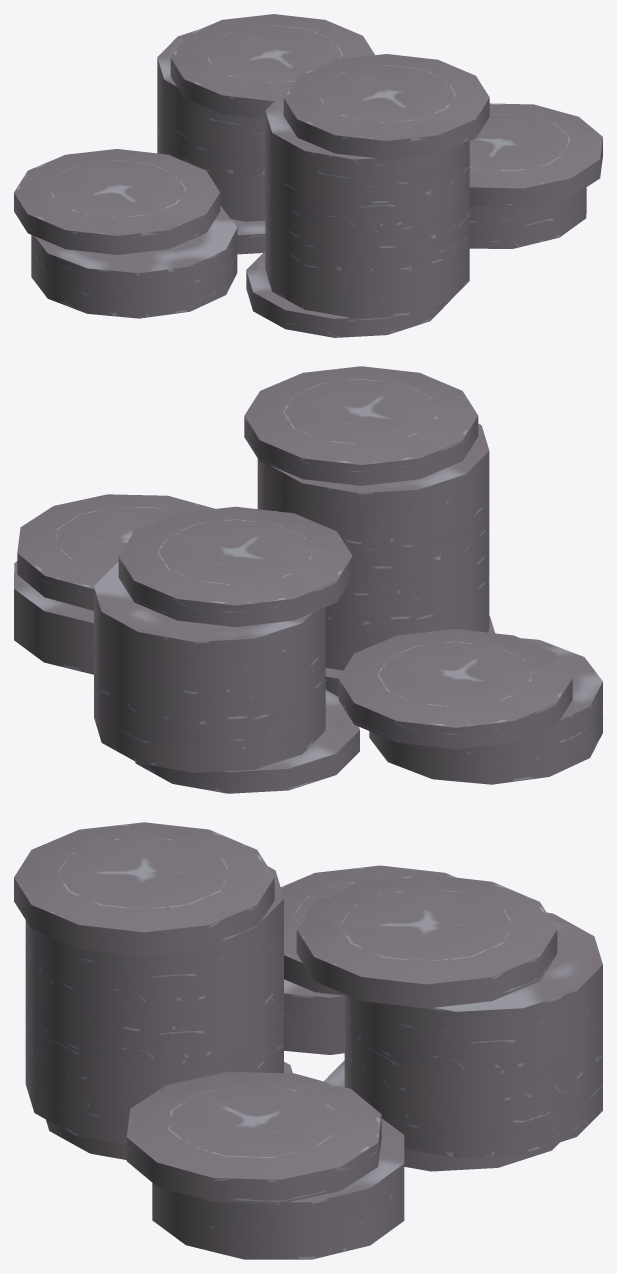
File: Coin_Pile.fbx
3 views of the same model, one above another, from view 1: azimuth 30°, elevation 25°; view 2: azimuth 150°, elevation 25°; view 3: azimuth 270°, elevation 25° (orthographic). The views are drawn at different scales.
Visible parts, largest first — view 1: Coin_Pile; view 2: Coin_Pile; view 3: Coin_Pile.
Part boxes in pixels (bbox=[...]): Coin_Pile: bbox=[14, 14, 602, 337]; Coin_Pile: bbox=[14, 366, 602, 793]; Coin_Pile: bbox=[14, 822, 602, 1259].
Bounding box in the file's own units: 19.75 × 7.35 × 15.42.
